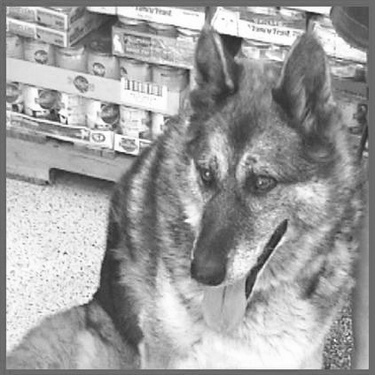dog: (9, 18, 366, 369)
